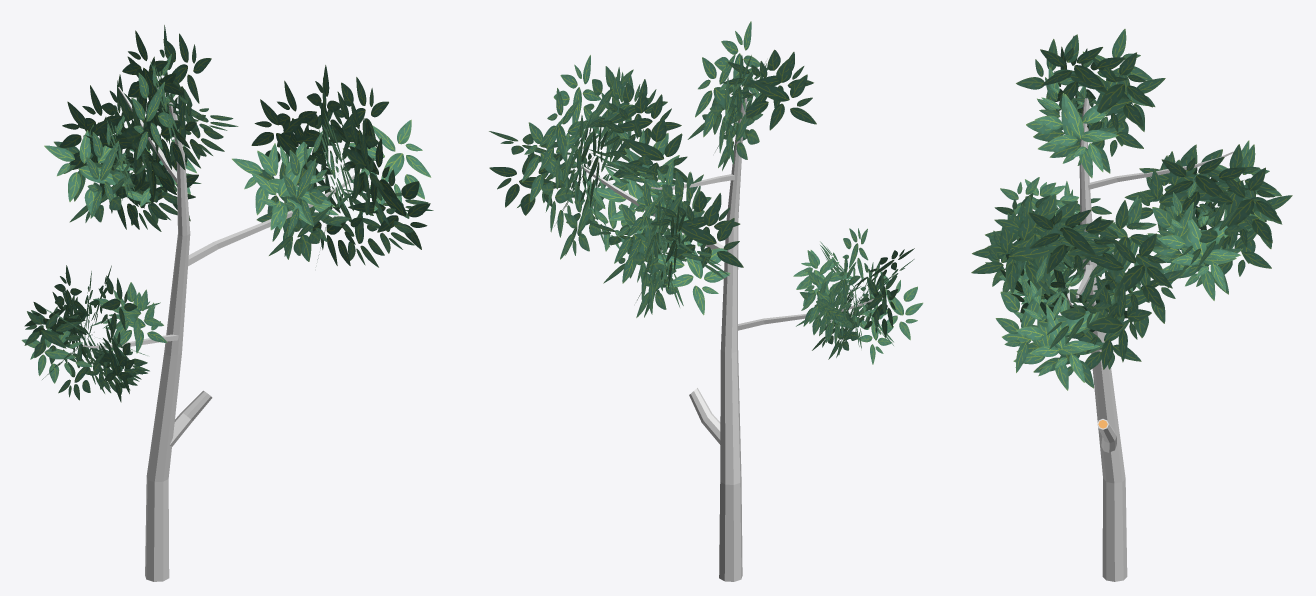
File: eucalyptus_big_anim.fbx
3 views of the same model, side by side, from view 1: azimuth 30°, elevation 25°; view 2: azimuth 150°, elevation 25°; view 3: azimuth 270°, elevation 25° (orthographic). The views are drawn at different scales.
Visible parts, largest first — view 1: Eucalyptus_Trunk; view 2: Eucalyptus_Trunk; view 3: Eucalyptus_Trunk.
Boxes of the visible parts, bbox=[...] form: Eucalyptus_Trunk: bbox=[21, 25, 433, 581]; Eucalyptus_Trunk: bbox=[489, 21, 923, 581]; Eucalyptus_Trunk: bbox=[971, 29, 1292, 581].
Bounding box in the file's own units: 589 × 760 × 425.
